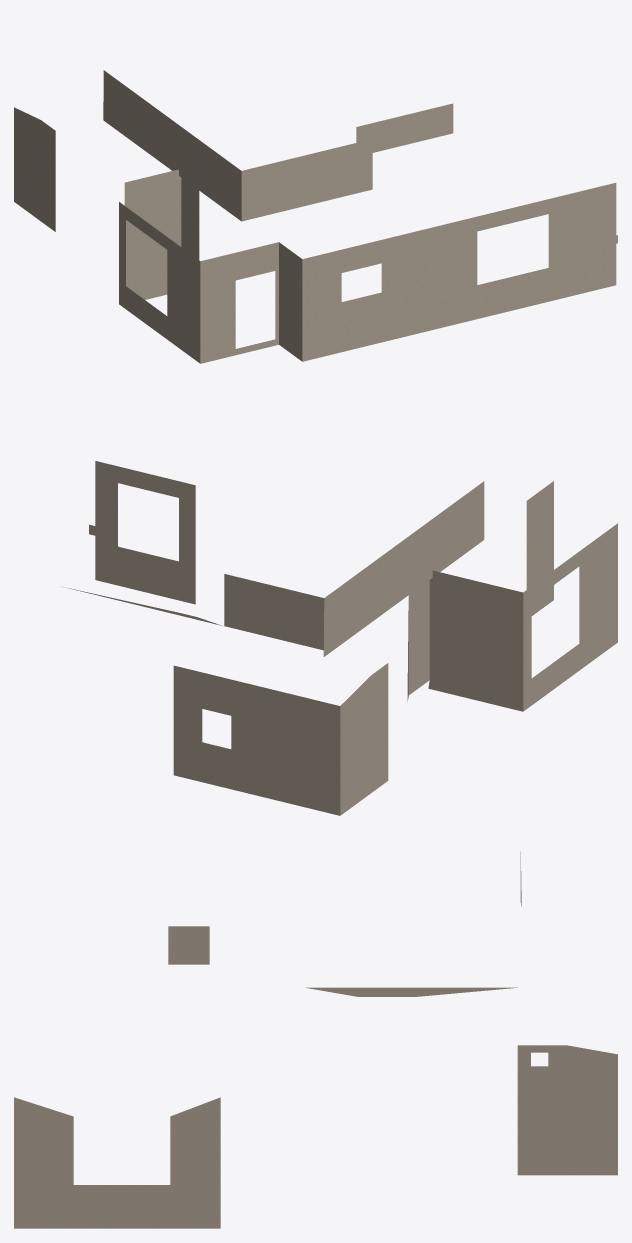
Rendered from kd_stage_135b75_4_159.glb.
The picture shows the model from 3 angles, top to bottom: view 1: azimuth 30°, elevation 25°; view 2: azimuth 150°, elevation 25°; view 3: azimuth 270°, elevation 25°; orthographic projection. The views are drawn at different scales.
Visible parts, largest first — view 1: kd_stage_135b75_4_159; view 2: kd_stage_135b75_4_159; view 3: kd_stage_135b75_4_159.
Part boxes in pixels (<box>): kd_stage_135b75_4_159: <box>14,70,617,363</box>; kd_stage_135b75_4_159: <box>62,461,617,815</box>; kd_stage_135b75_4_159: <box>14,851,617,1228</box>.
Size of the model in its own units: 10.46 by 4.01 by 10.3.
1 material, 1 textured.
